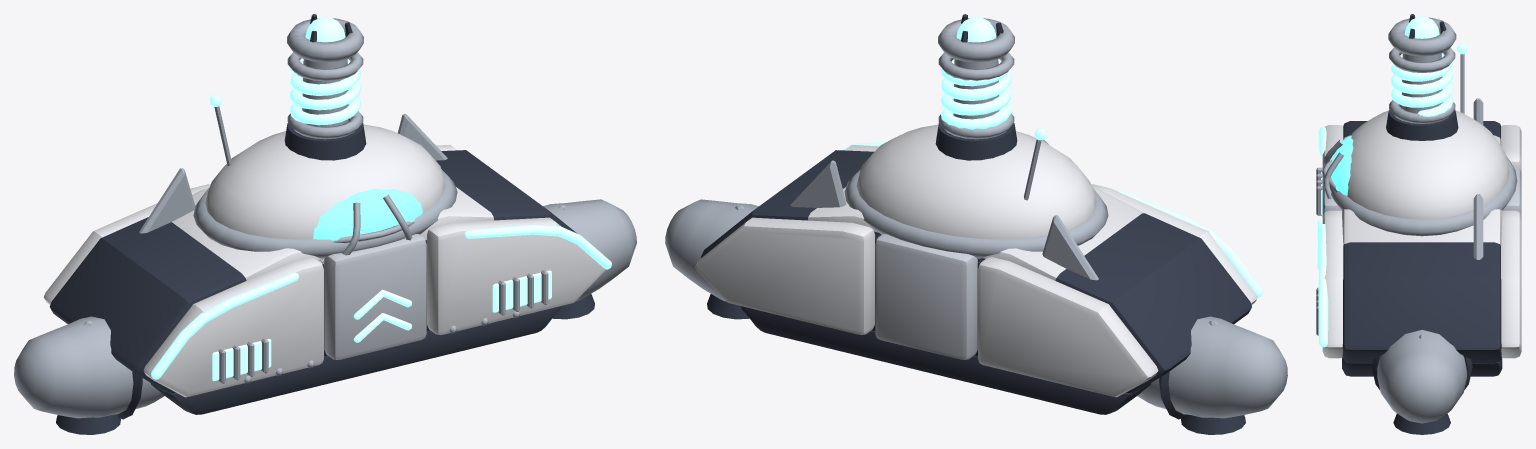
Rendered from cannon.glb.
3 renders of one model, left to right at view 1: azimuth 30°, elevation 25°; view 2: azimuth 150°, elevation 25°; view 3: azimuth 270°, elevation 25°, orthographic. The views are drawn at different scales.
Visible parts, largest first — view 1: cannon; view 2: cannon; view 3: cannon.
Boxes of the visible parts, left/top/right/bottom form: cannon: left=14, top=14, right=636, bottom=434; cannon: left=665, top=14, right=1287, bottom=434; cannon: left=1316, top=14, right=1521, bottom=434.
Bounding box in the file's own units: 0.7034 × 0.3858 × 0.233.
